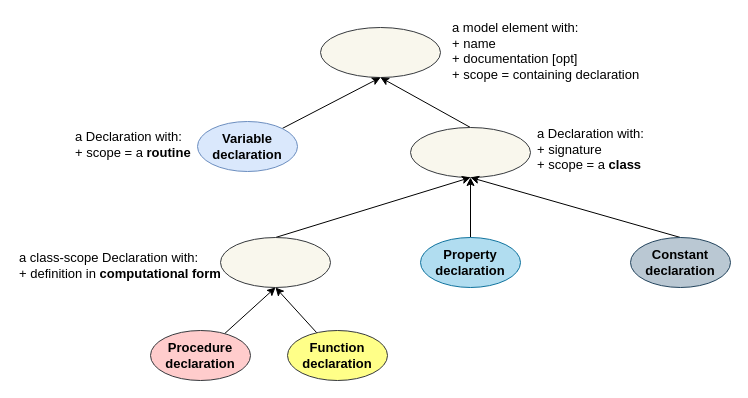
The diagram is 748 pixels wide and 398 high, and some of its shapes have lost their labels. The box of each missing label's shape, as (x1, y1, x2, y2) in pixels:
Class scoped declaration: (410, 126, 530, 178)
Declaration: (320, 26, 440, 78)
Routine declaration: (220, 236, 330, 288)
